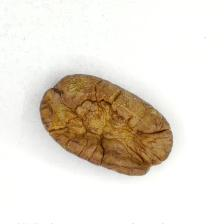NG: (45, 78, 162, 172)
